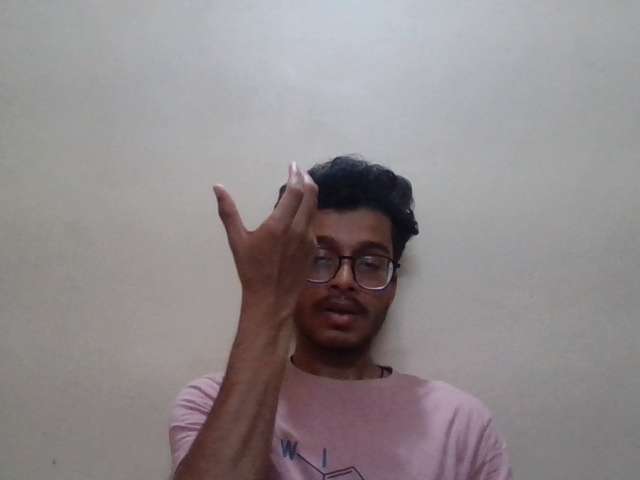U: (203, 167, 341, 337)
